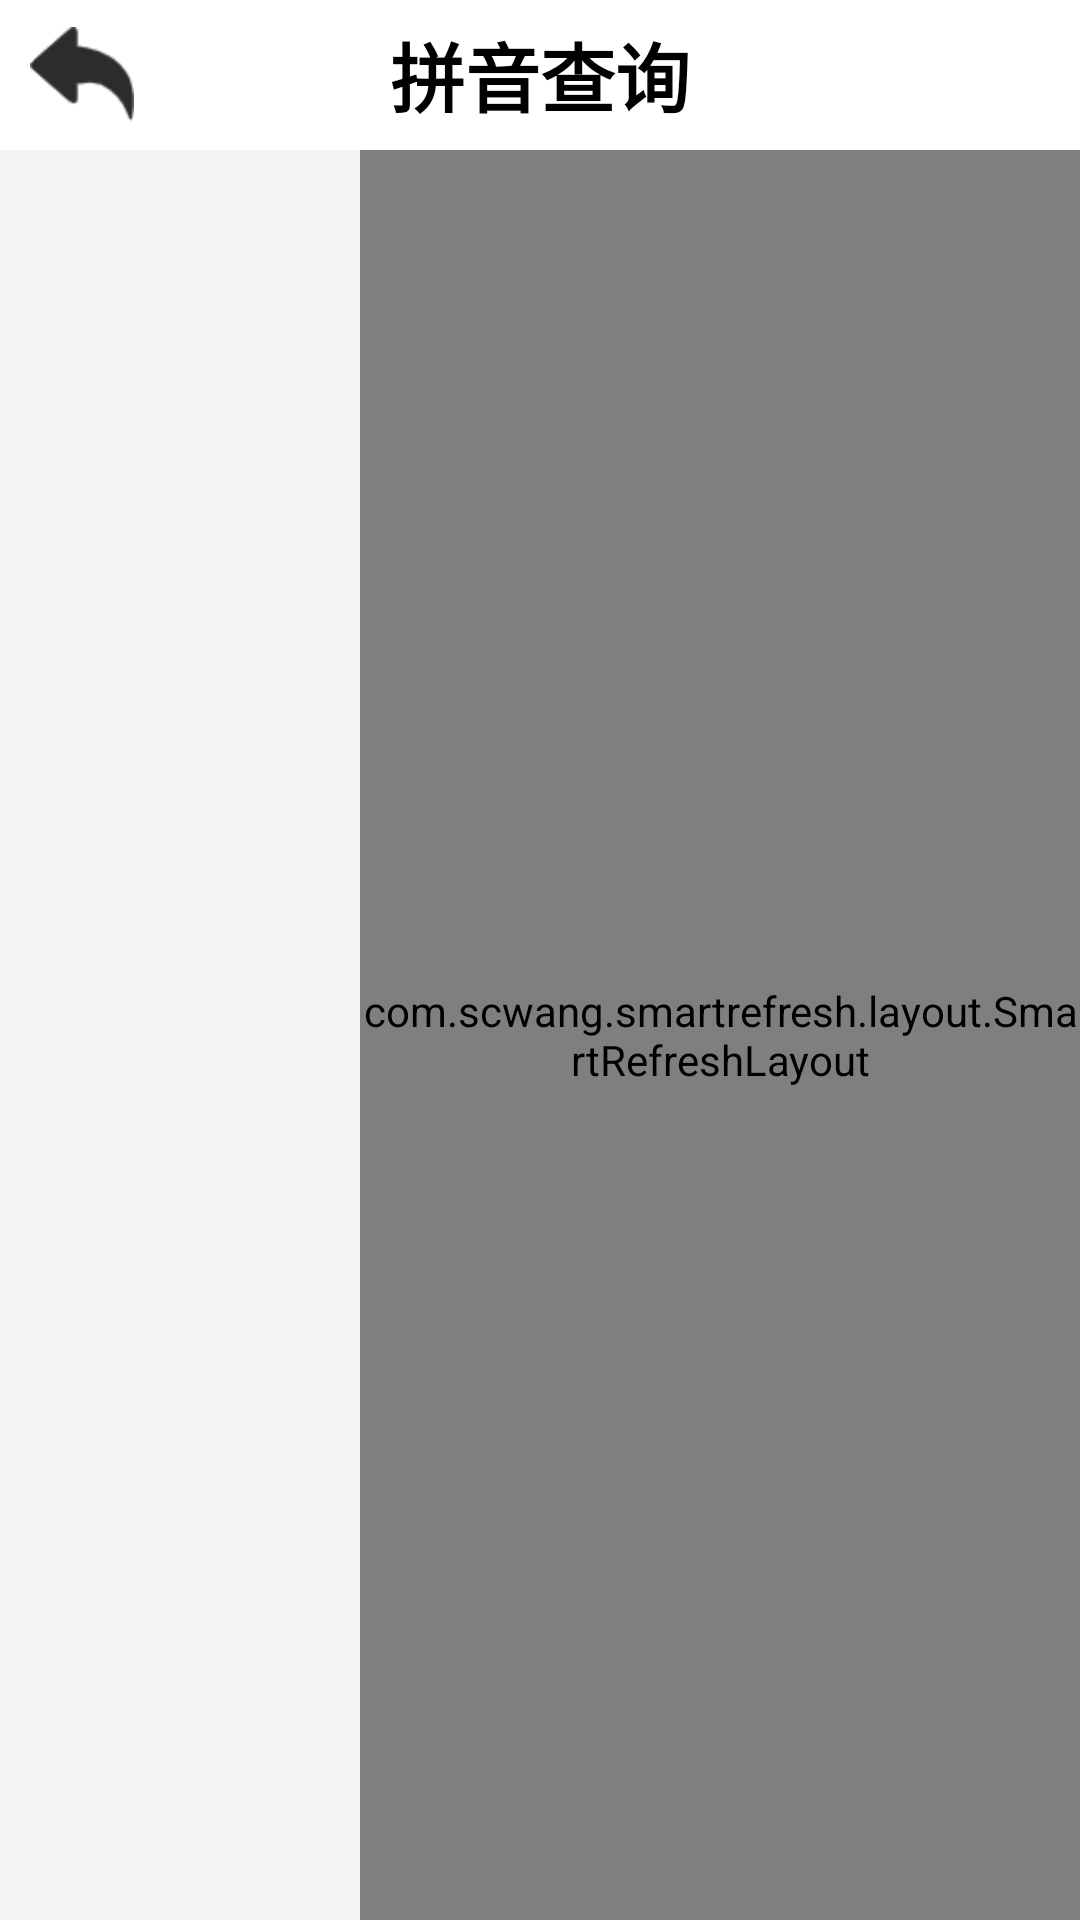

Icon bounding boxes for this 1080 x 1920 phone screenshot, format (x1, y1, x2, y2):
back: (30, 27, 134, 121)
